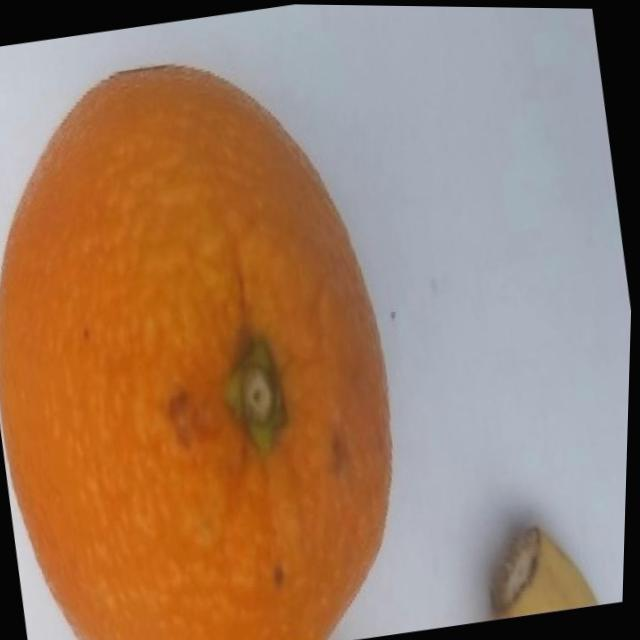Banana: (484, 517, 606, 621)
Orange: (0, 33, 439, 640)
